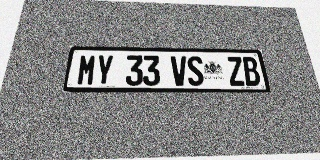3: (126, 55, 143, 86), (143, 55, 160, 86)
B: (241, 57, 261, 86)
M: (76, 54, 97, 85)
S: (186, 56, 204, 86)
V: (170, 56, 188, 86)
Y: (94, 55, 114, 86)
Z: (226, 57, 246, 86)
